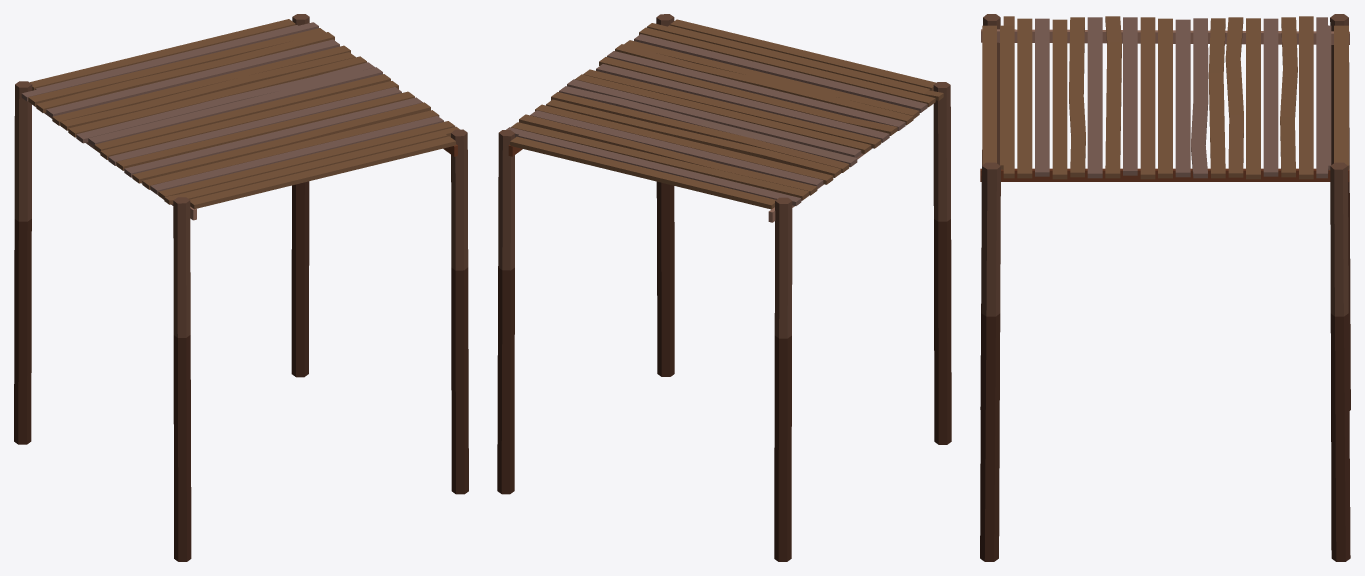
The model's file is Platform.fbx.
The picture shows the model from 3 angles, left to right: view 1: azimuth 30°, elevation 25°; view 2: azimuth 150°, elevation 25°; view 3: azimuth 270°, elevation 25°; orthographic projection. The views are drawn at different scales.
Visible parts, largest first — view 1: Cube.001, Cylinder; view 2: Cube.001, Cylinder; view 3: Cube.001, Cylinder, Cube.
Boxes of the visible parts, left/top/right/bottom form: Cube.001: left=21, top=19, right=459, bottom=209; Cylinder: left=14, top=14, right=468, bottom=561; Cube.001: left=506, top=19, right=943, bottom=209; Cylinder: left=497, top=14, right=951, bottom=561; Cube.001: left=982, top=16, right=1348, bottom=179; Cylinder: left=980, top=14, right=1350, bottom=561; Cube: left=980, top=29, right=1349, bottom=181.
Size of the model in its own units: 210 by 246 by 211.
